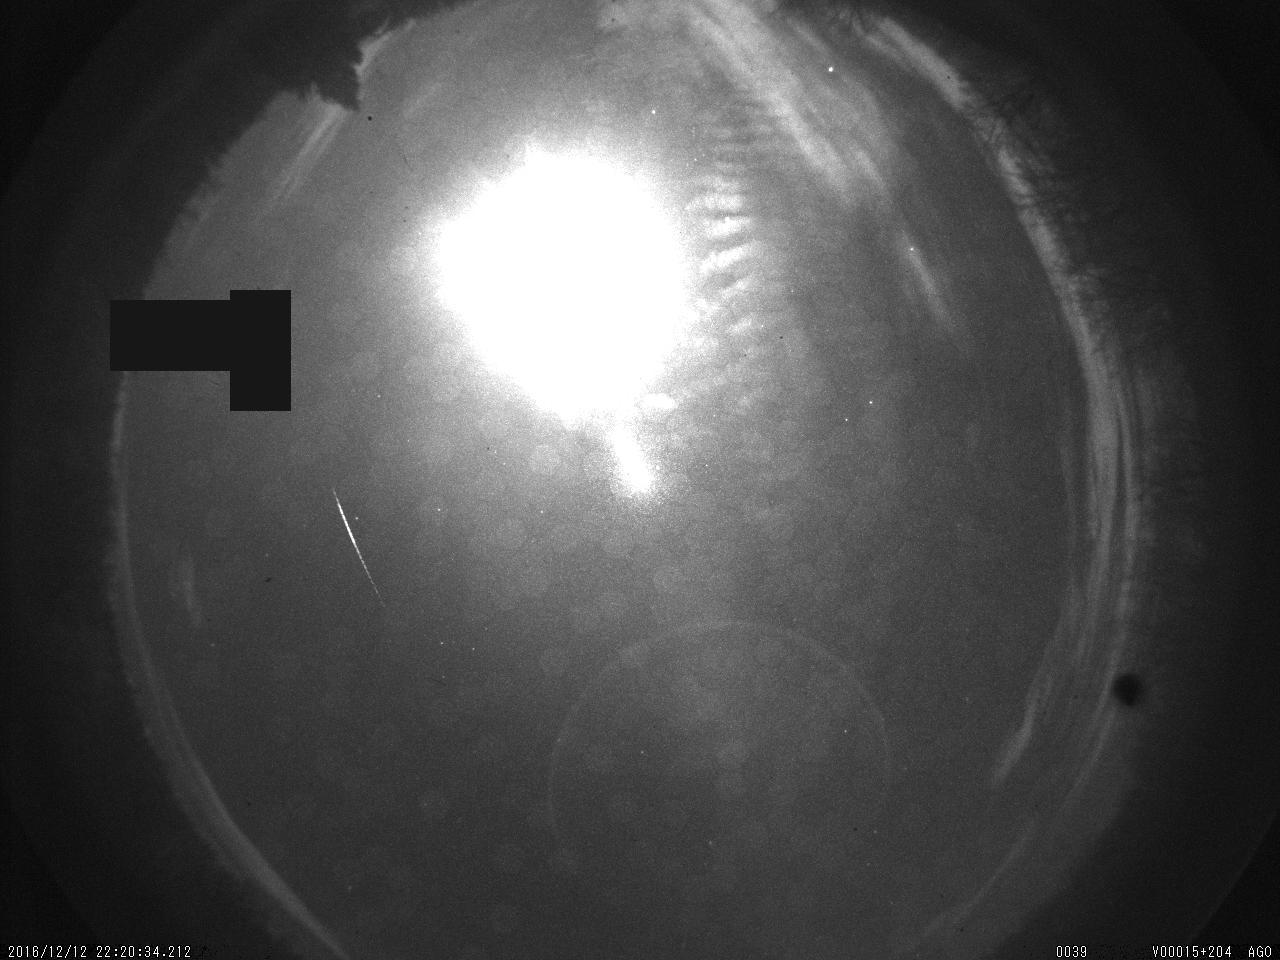meteor: (309, 472, 385, 605)
